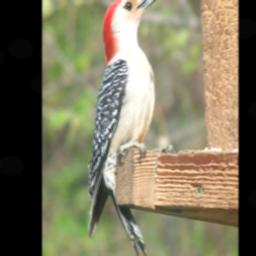Woodpecker: (88, 0, 168, 256)
